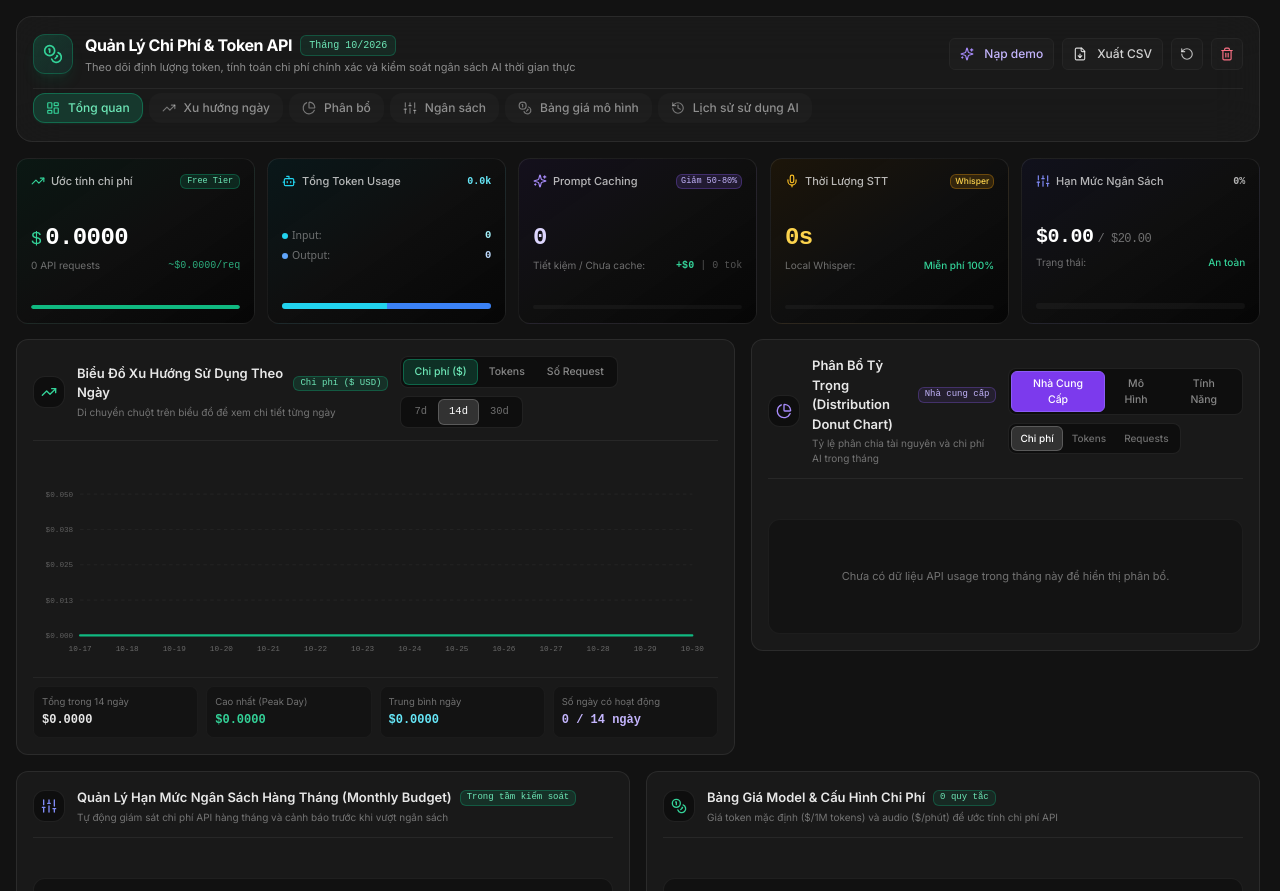
Test: CostTracker Screen Smoke Tests › switches between navigation tabs smoothly
The image size is (1280, 891).
// Switch to Charts tab
Click the button "Xu hướng ngày" at point(216, 108), box [149,92,283,122]
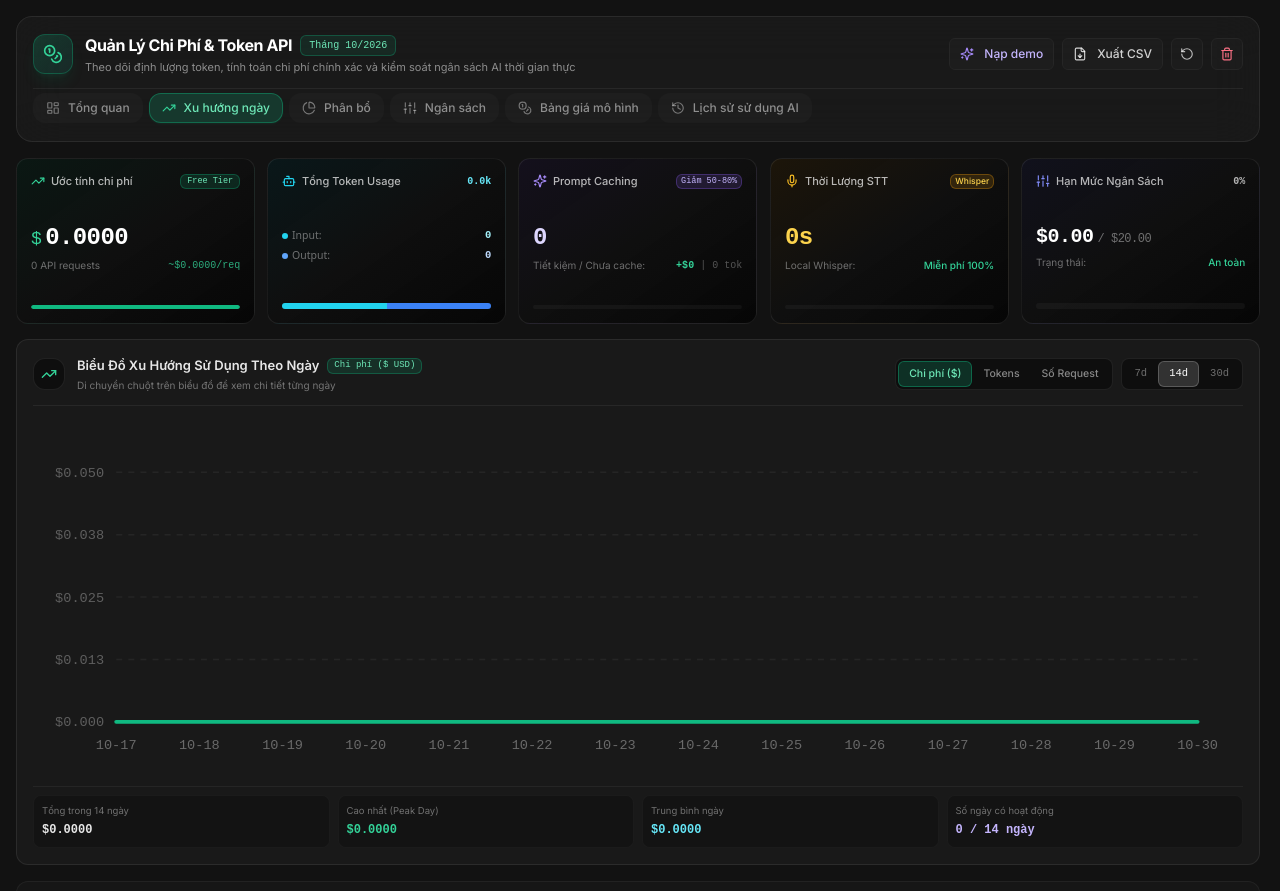
Expected: the text "Biểu Đồ Xu Hướng Sử Dụng Theo Ngày" is shown, [77,356,319,376]
// Switch to Distribution tab
Click the button "Phân bổ" at point(336, 108), box [289,92,384,122]
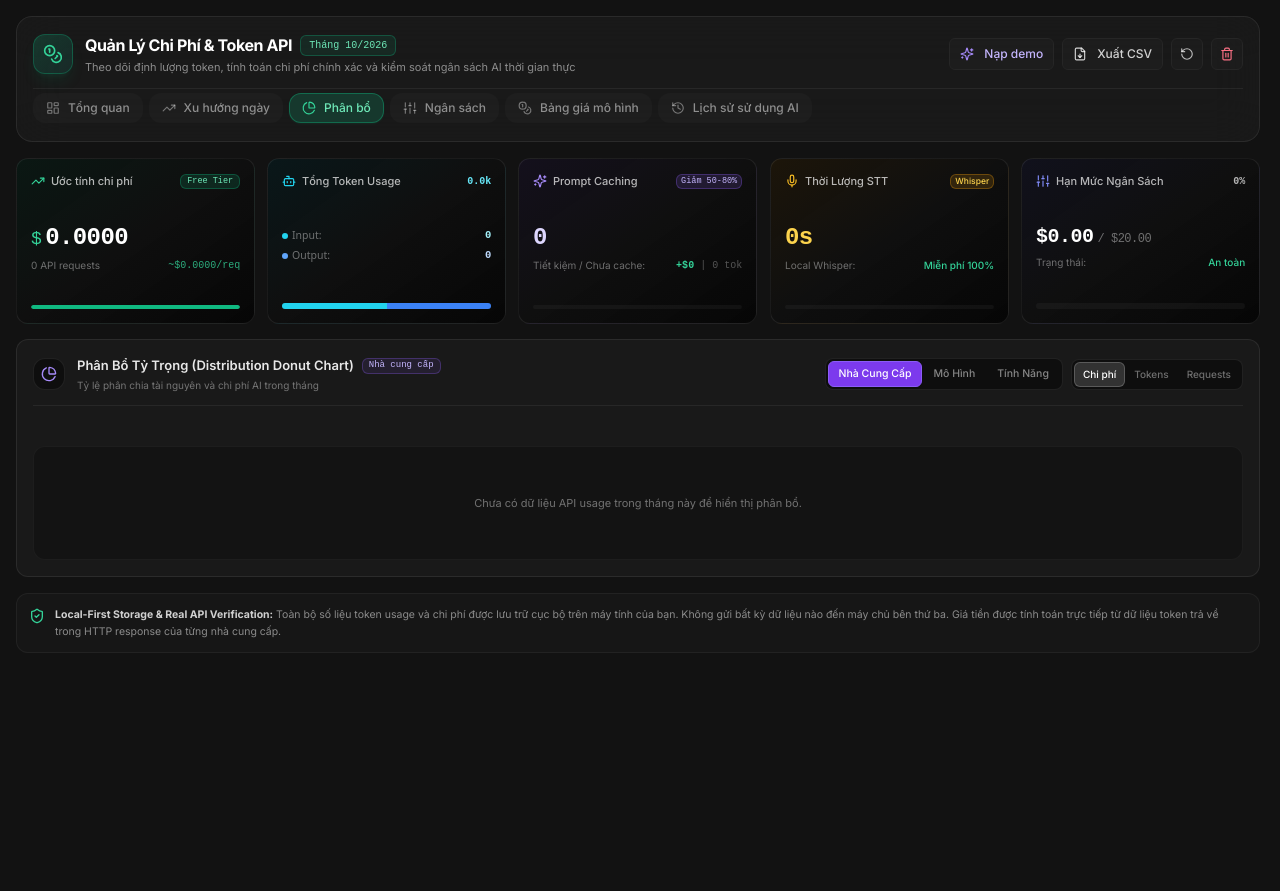
Now the text "Phân Bổ Tỷ Trọng (Distribution Donut Chart)" is shown, box [77,356,354,376]
// Switch to Budget tab
Click the button "Ngân sách" at point(444, 108), box [390,92,499,122]
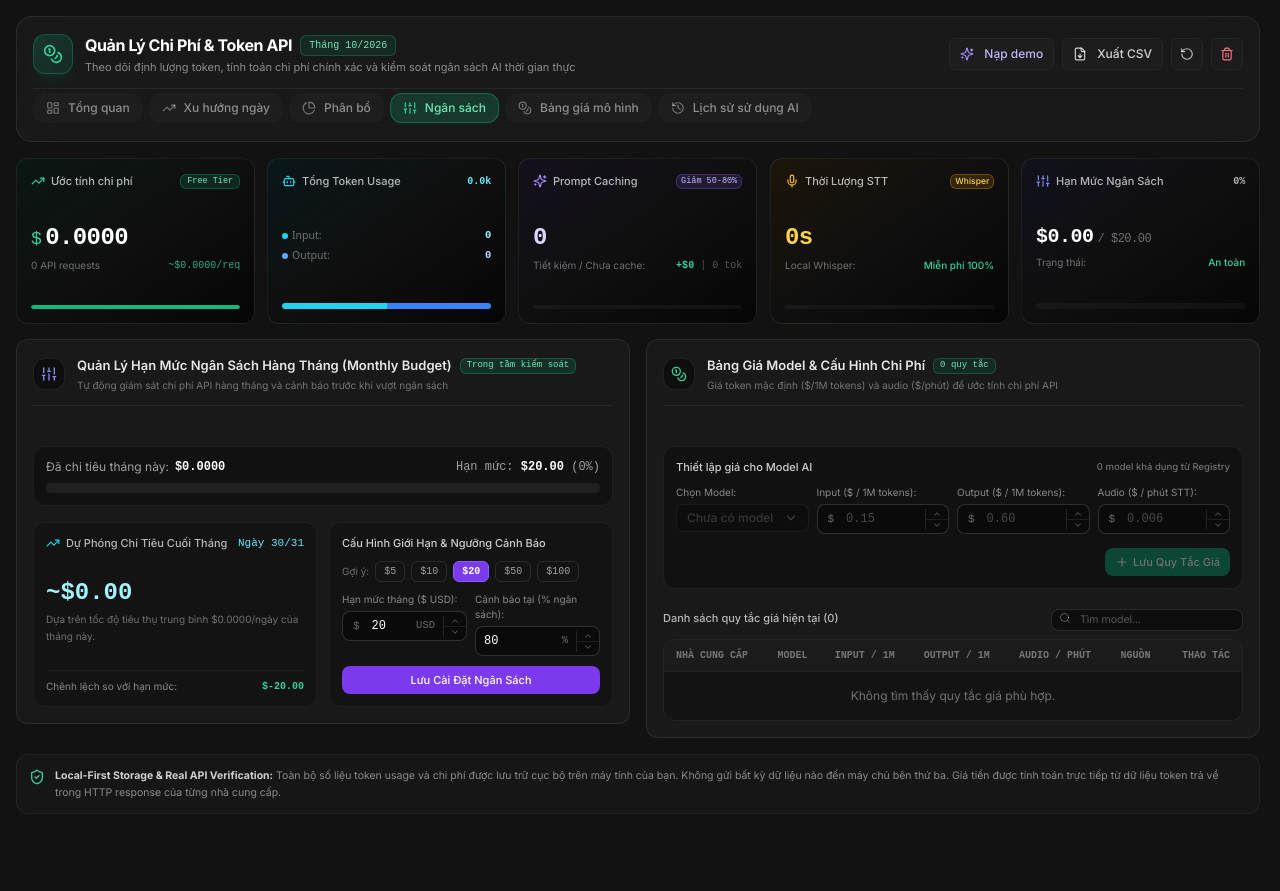
Now the text "Quản Lý Hạn Mức Ngân Sách Hàng Tháng (Monthly Budget)" is shown, box [77,356,452,376]
// Switch to Pricing tab
Click the button "Bảng giá mô hình" at point(578, 108), box [505,92,652,122]
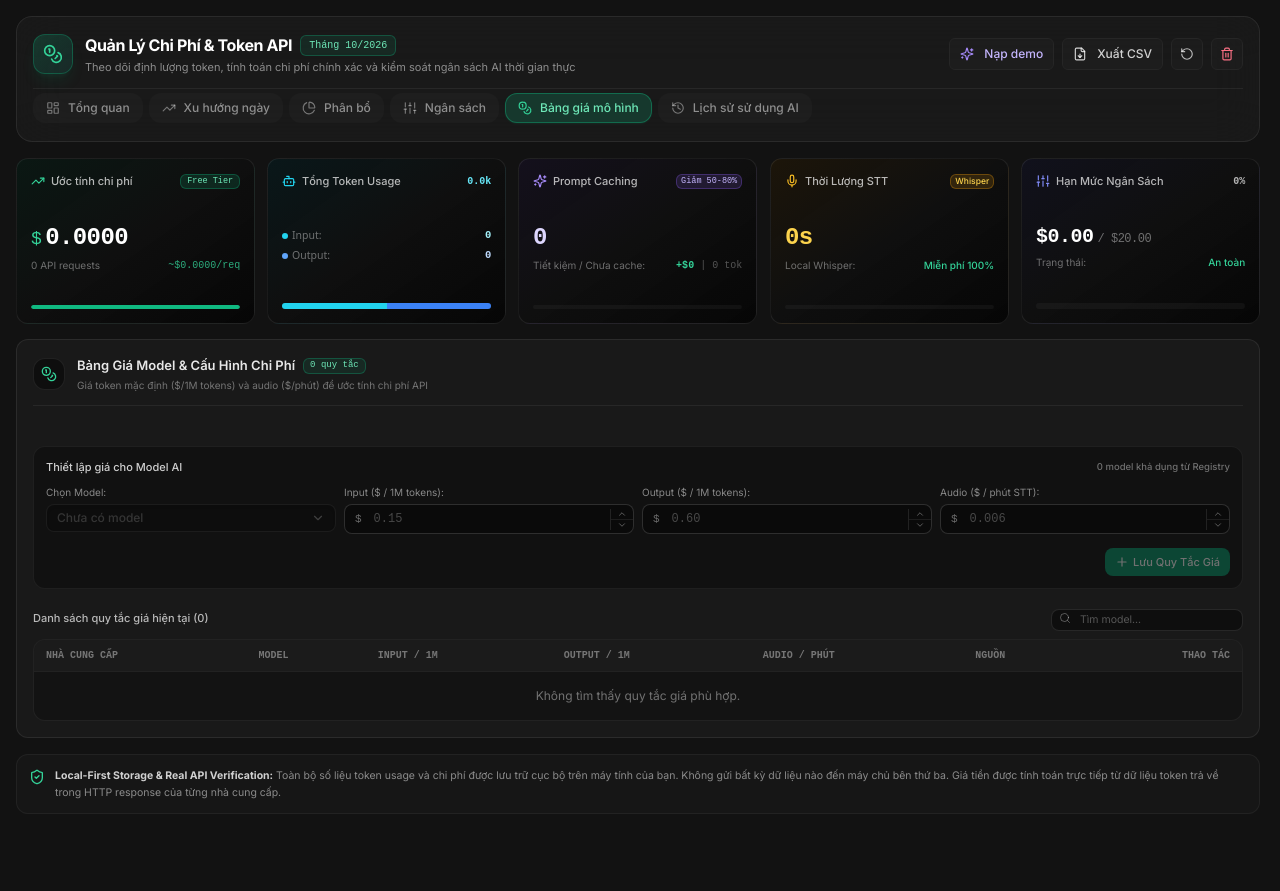
Now the text "Bảng Giá Model & Cấu Hình Chi Phí" is shown, box [77,356,295,376]
// Switch to Logs tab
Click the button "Lịch sử sử dụng AI" at point(735, 108), box [658,92,812,122]
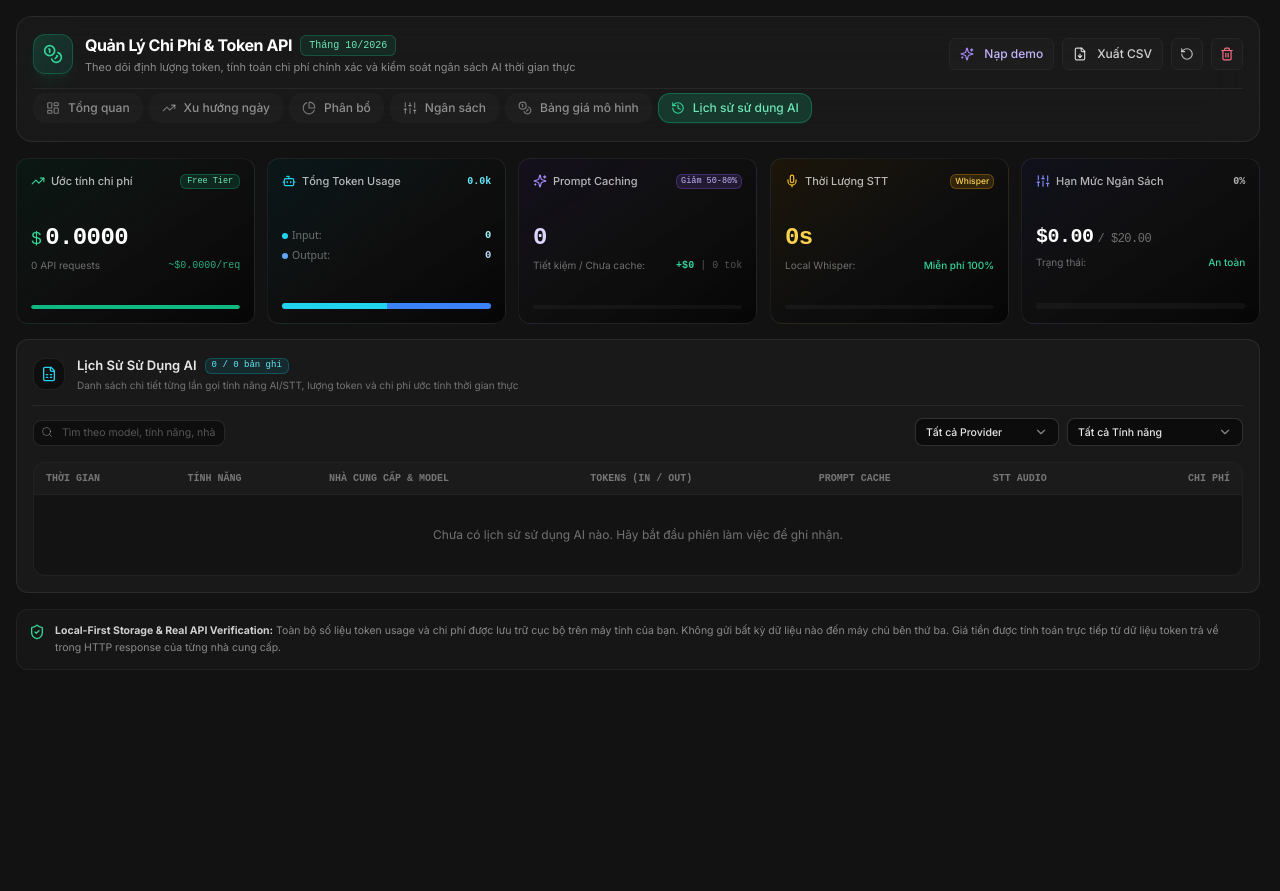
Now the text "Lịch Sử Sử Dụng AI" is shown, box [77,356,197,376]
